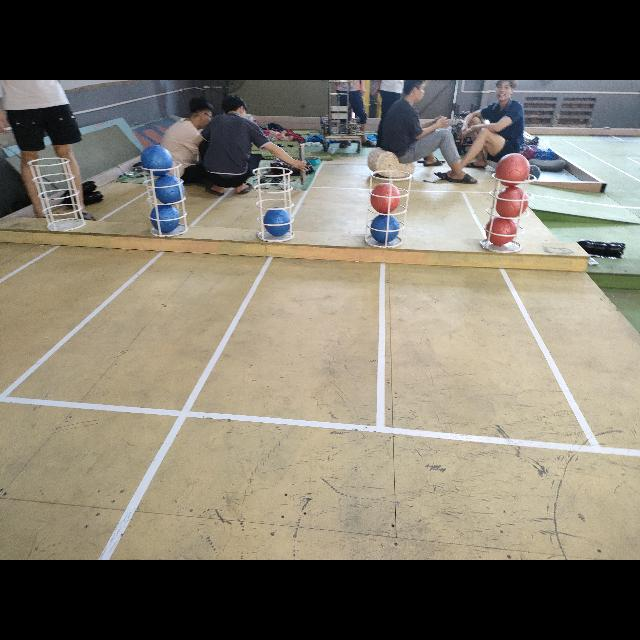B: (141, 144, 171, 174), (370, 215, 400, 243), (154, 175, 184, 203), (264, 208, 292, 236), (150, 205, 178, 232)
R: (495, 153, 531, 187), (497, 186, 529, 218), (370, 182, 400, 214), (484, 218, 516, 246)
